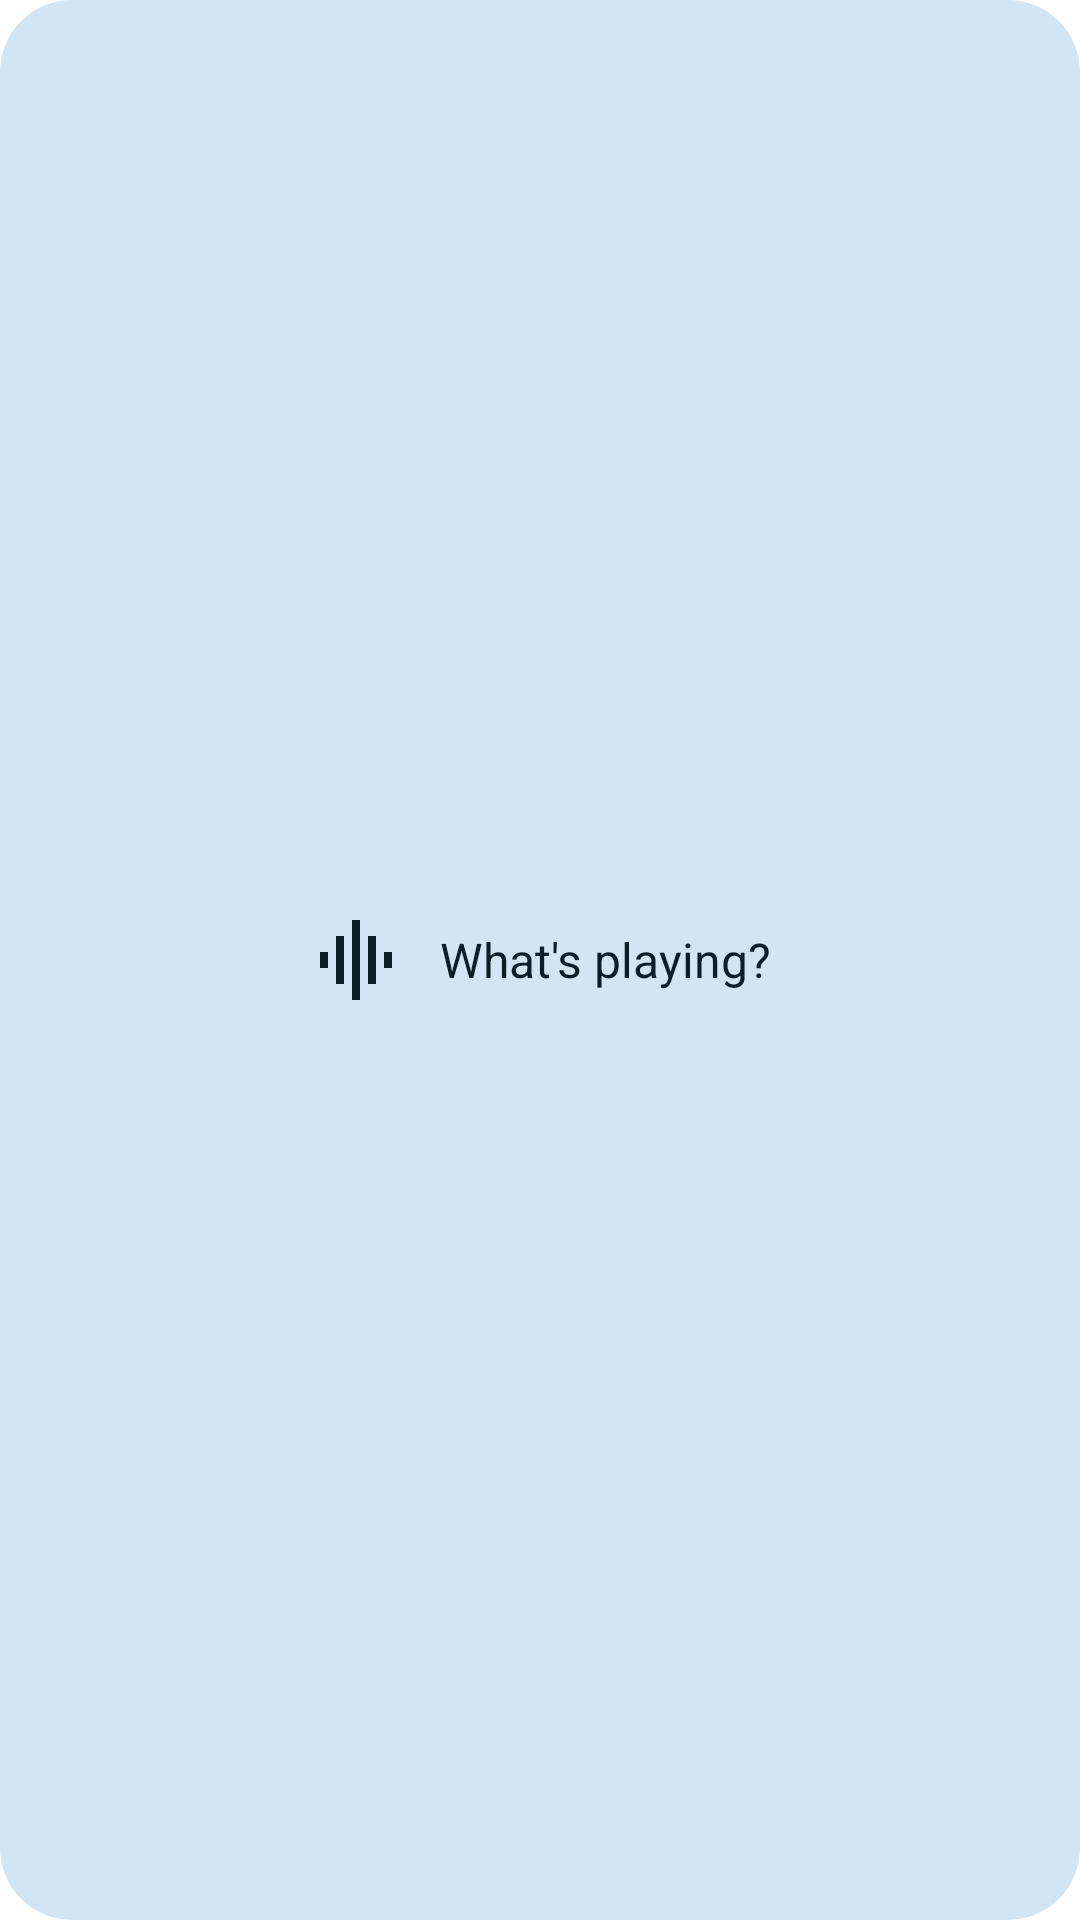

Icon click points for this 1080 x 1920 phone screenshot, format point (x, y):
recognise widget: point (356, 960)
